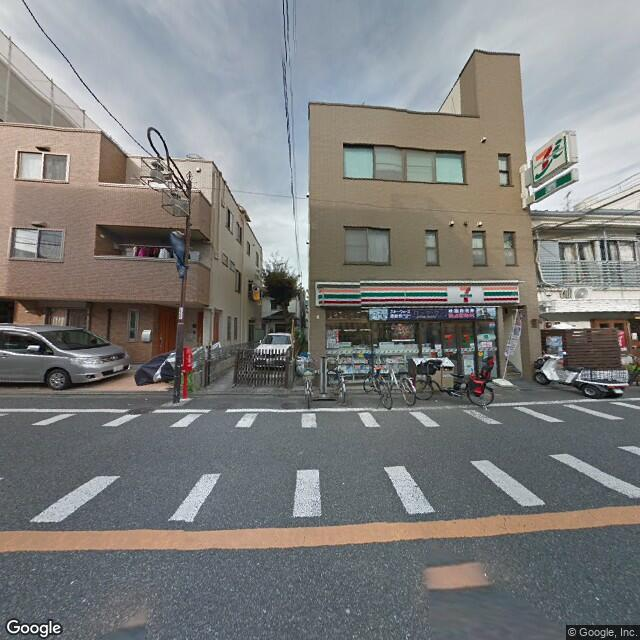7-eleven: (316, 277, 526, 313), (530, 129, 574, 181)
